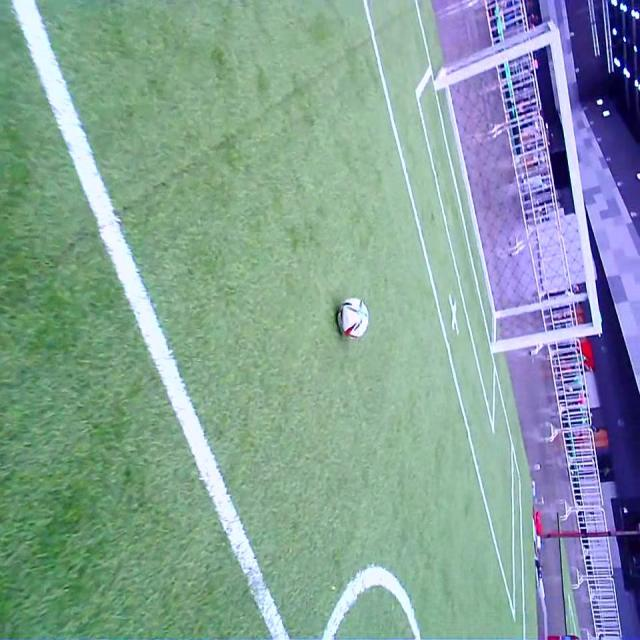ball: (339, 297, 369, 338)
